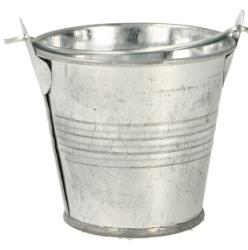SEAU: (4, 8, 245, 249)
